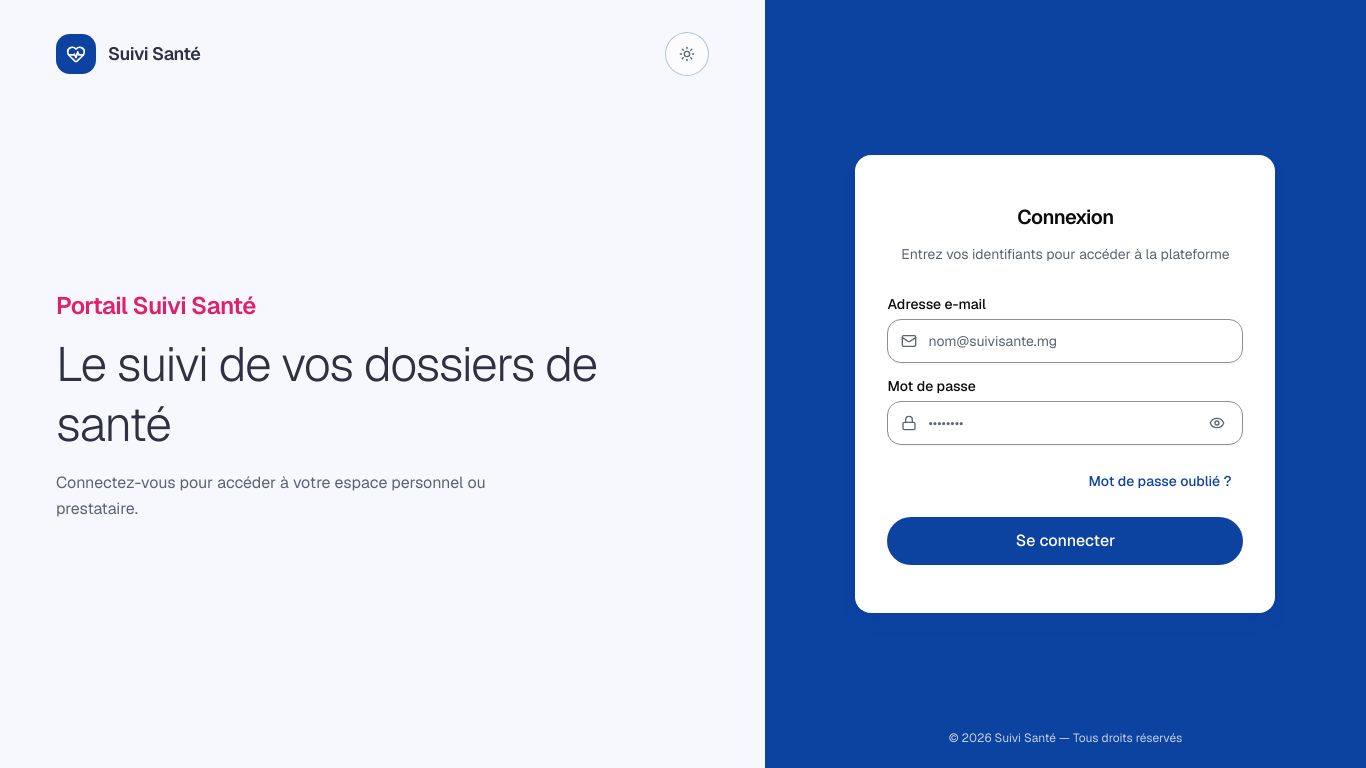
Page de connexion › bascule la visibilité du mot de passe (accessible au clavier)
Click the button named "Afficher le mot de passe" at (1218, 423), box [1196,401,1240,445]
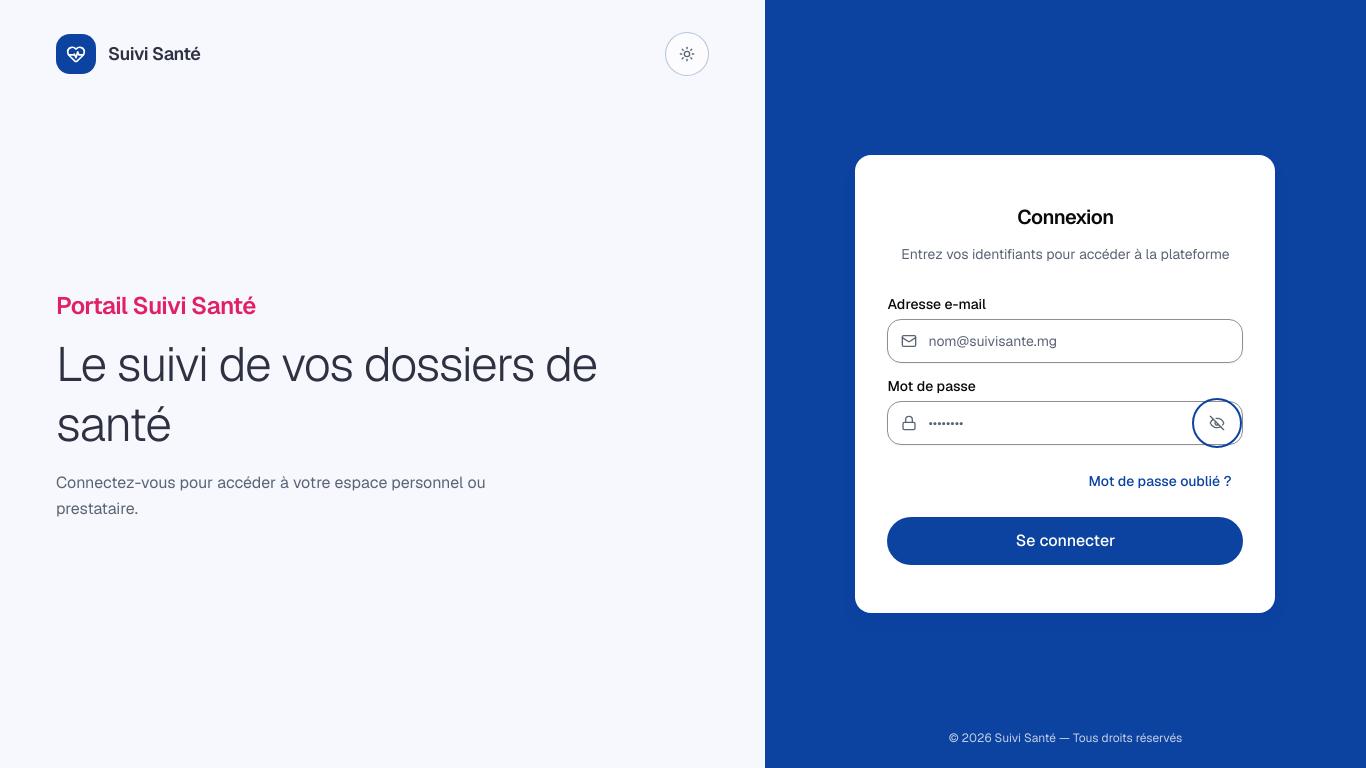
Check: the button named "Masquer le mot de passe" is shown, box [1196,401,1240,445]
